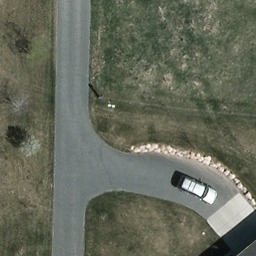car: (177, 171, 221, 206)
